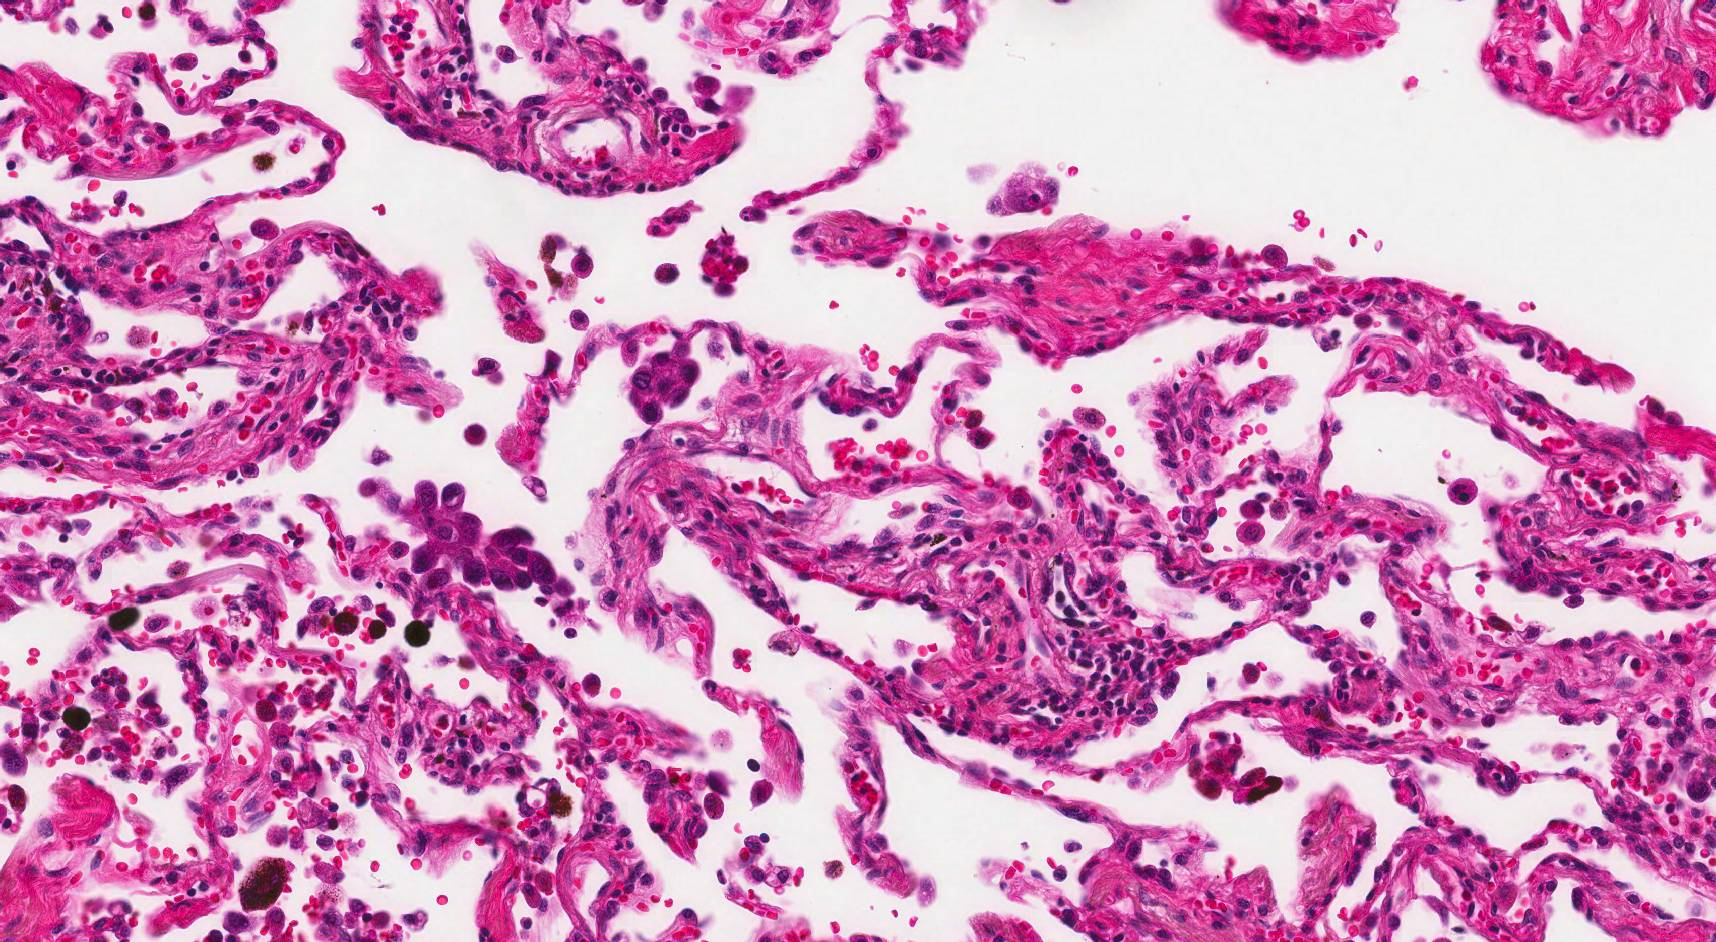stas: (378, 474, 580, 600), (627, 347, 702, 424)
